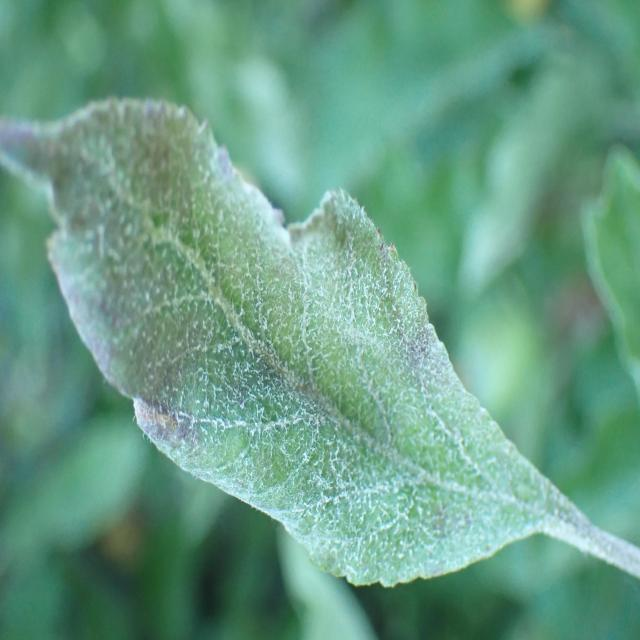Powdery_mildew: (0, 104, 633, 610)
